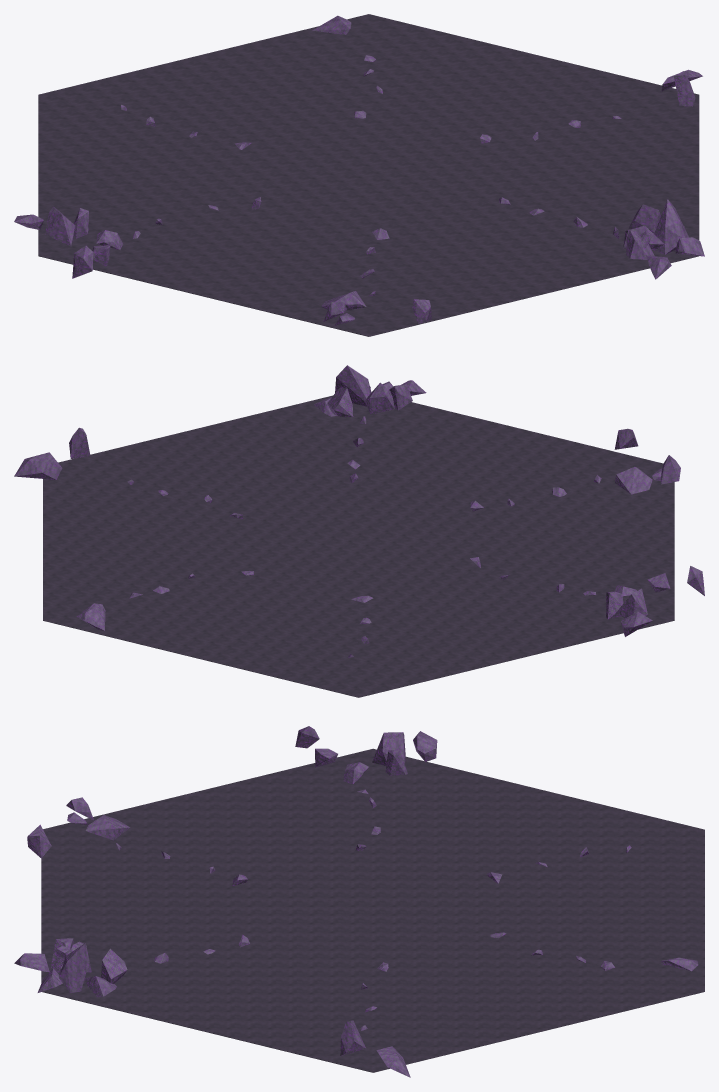
The model's file is env_ground_v2.glb.
3 views of the same model, one above another, from view 1: azimuth 30°, elevation 25°; view 2: azimuth 150°, elevation 25°; view 3: azimuth 270°, elevation 25° (orthographic). The views are drawn at different scales.
Parts seen in each view (by area): view 1: env_ground; view 2: env_ground; view 3: env_ground.
Boxes of the visible parts, x1,y1,x2,y2 form: env_ground: [14, 14, 704, 336]; env_ground: [14, 365, 704, 697]; env_ground: [14, 726, 704, 1077].
Size of the model in its own units: 377 by 23.56 by 334.
Materials: 2 (2 with a texture image).
